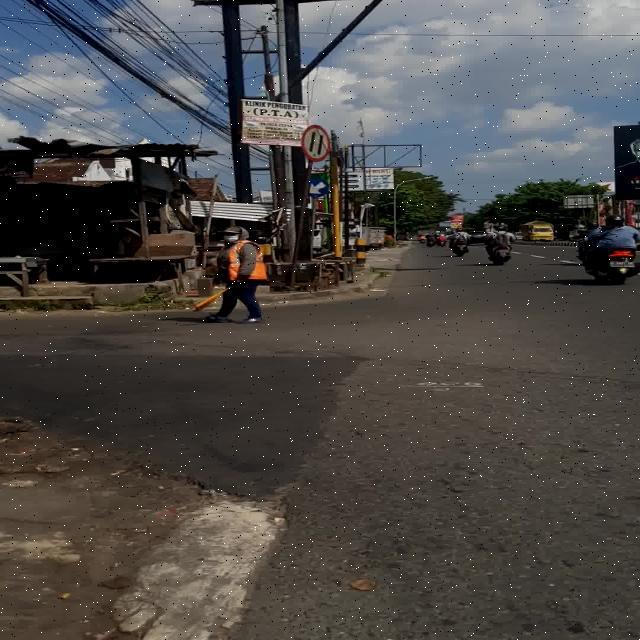Larangan Muatan - 10 ton: (302, 125, 331, 161)
